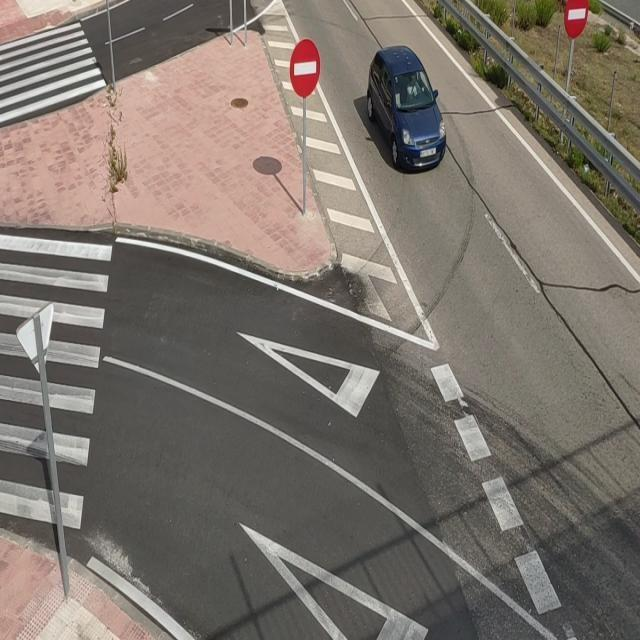Car: (366, 40, 449, 171)
